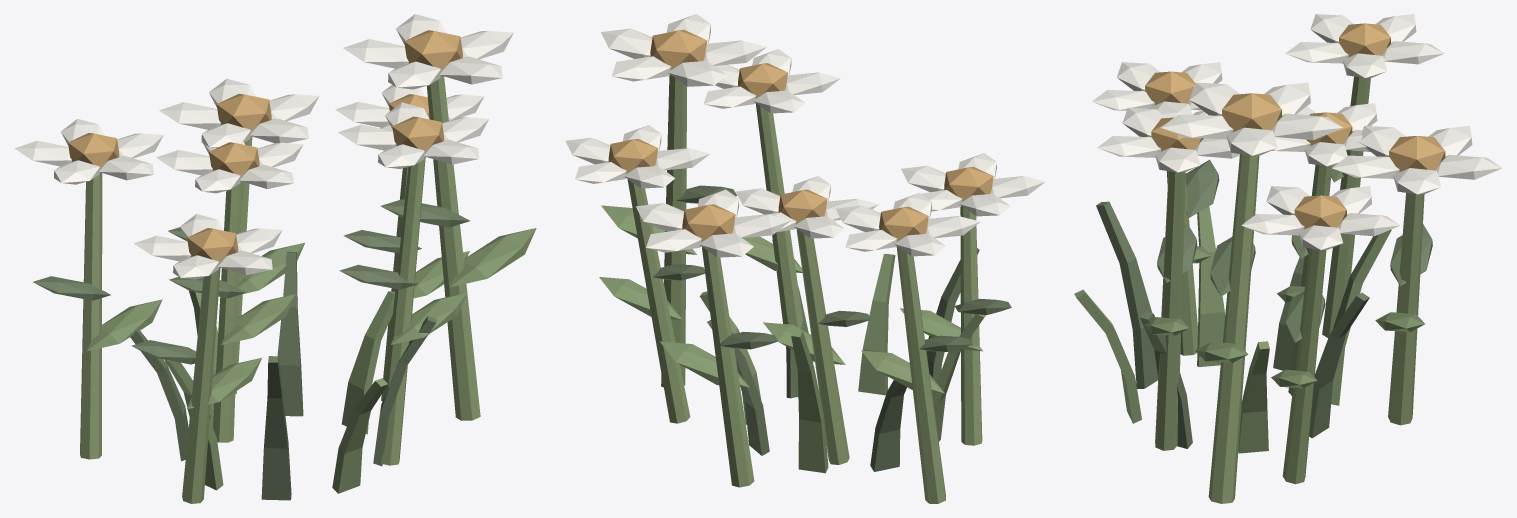
File: flower-white.glb
The picture shows the model from 3 angles, left to right: view 1: azimuth 30°, elevation 25°; view 2: azimuth 150°, elevation 25°; view 3: azimuth 270°, elevation 25°; orthographic projection. The views are drawn at different scales.
Parts seen in each view (by area): view 1: flower-white; view 2: flower-white; view 3: flower-white.
Part boxes in pixels (x1,y1,x2,y2): flower-white: (14,14,536,503); flower-white: (565,14,1045,503); flower-white: (1074,14,1502,503).
Size of the model in its own units: 0.9567 by 0.7854 by 0.7678.
